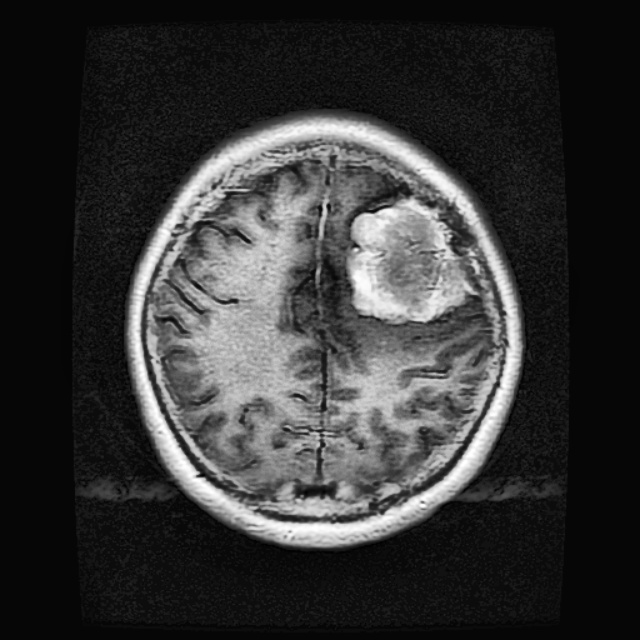Pituitary: (348, 197, 473, 318)
